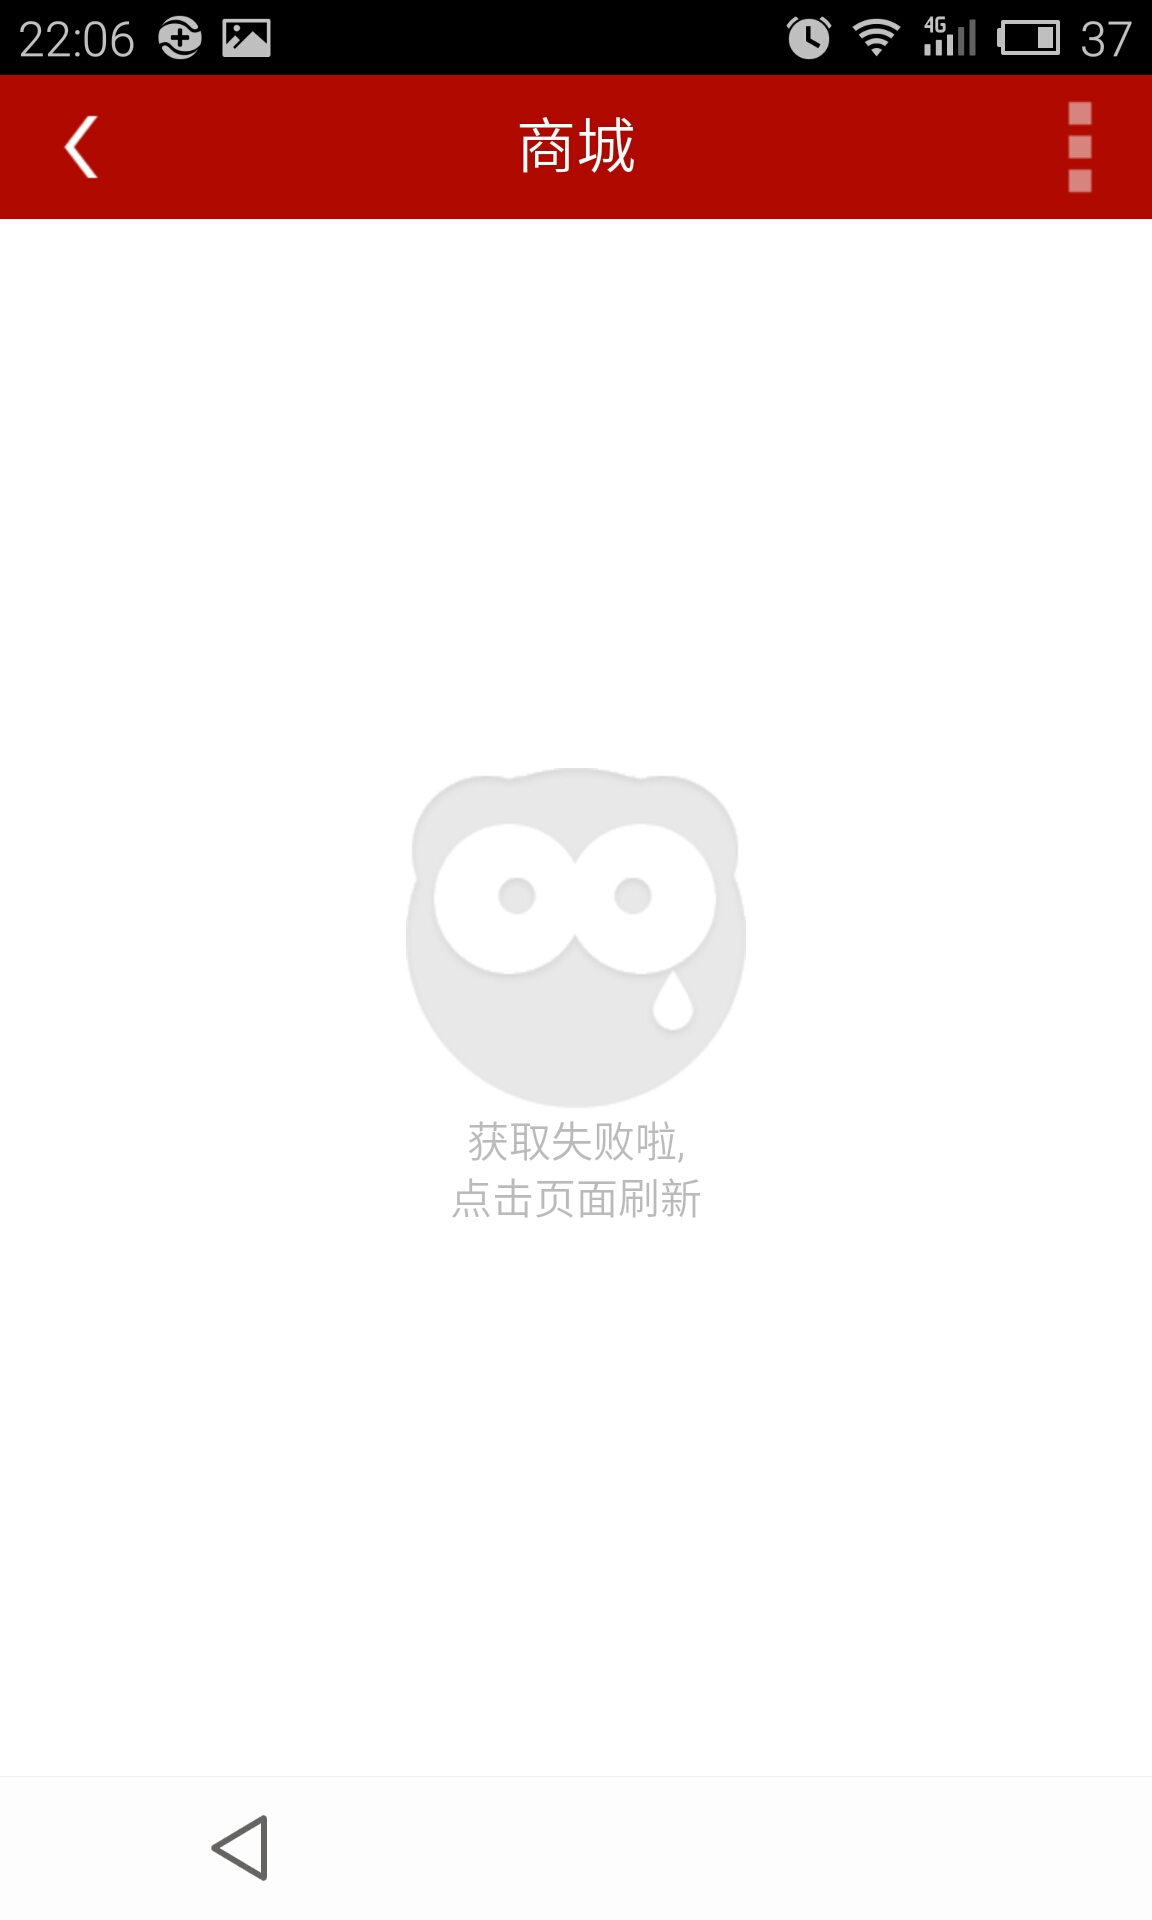imgbutton: (191, 1801, 299, 1904)
imgview: (344, 756, 773, 1116)
